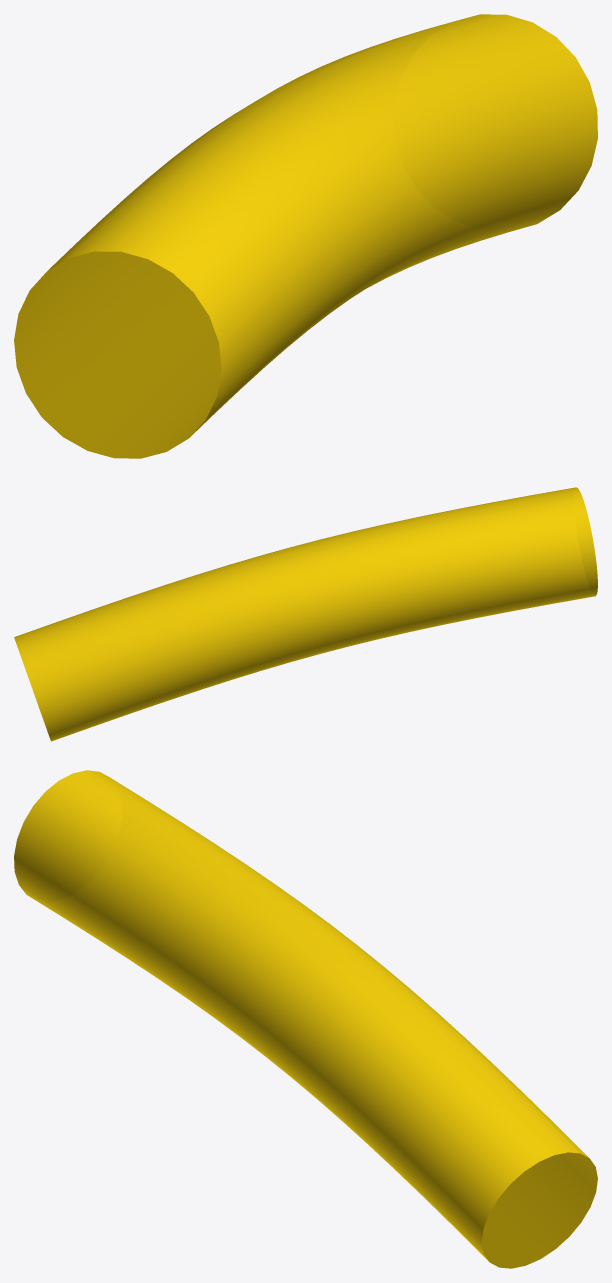
Rendered from Event_420604493_track_13.fbx.
3 renders of one model, top to bottom at view 1: azimuth 30°, elevation 25°; view 2: azimuth 150°, elevation 25°; view 3: azimuth 270°, elevation 25°, orthographic. The views are drawn at different scales.
Visible parts, largest first — view 1: Model; view 2: Model; view 3: Model.
Boxes of the visible parts, x1=… form: Model: x1=14, y1=14, x2=597, y2=458; Model: x1=14, y1=487, x2=597, y2=741; Model: x1=14, y1=770, x2=597, y2=1268.
Size of the model in its own units: 0.1815 by 0.0811 by 0.1618.
